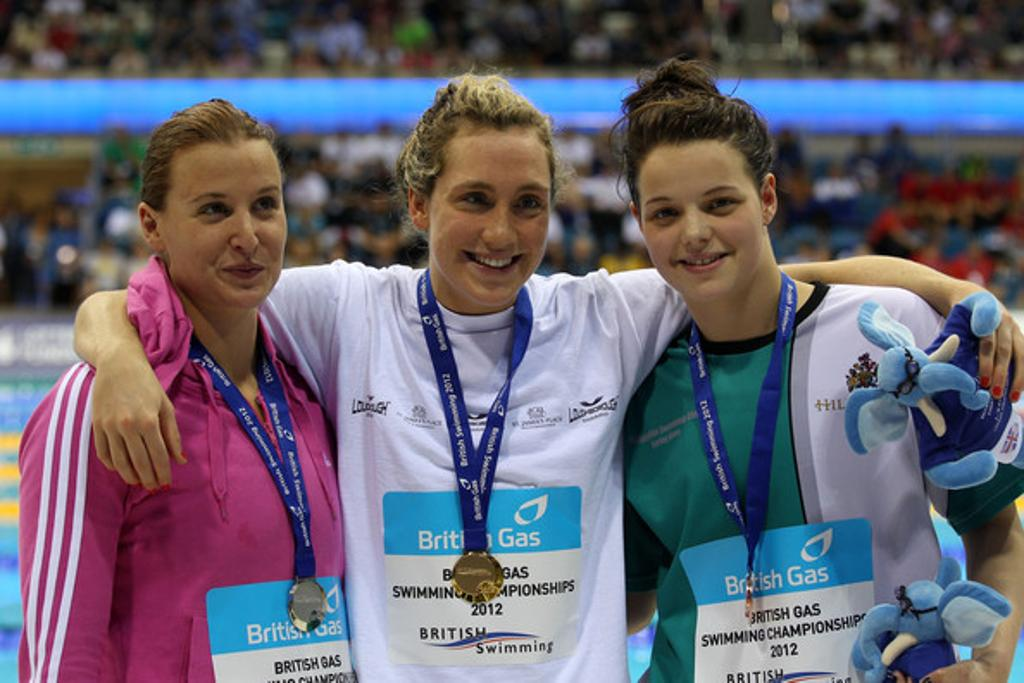face: (432, 140, 552, 308), (166, 134, 286, 300), (638, 156, 756, 292)
